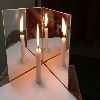fire: (36, 21, 41, 49)
